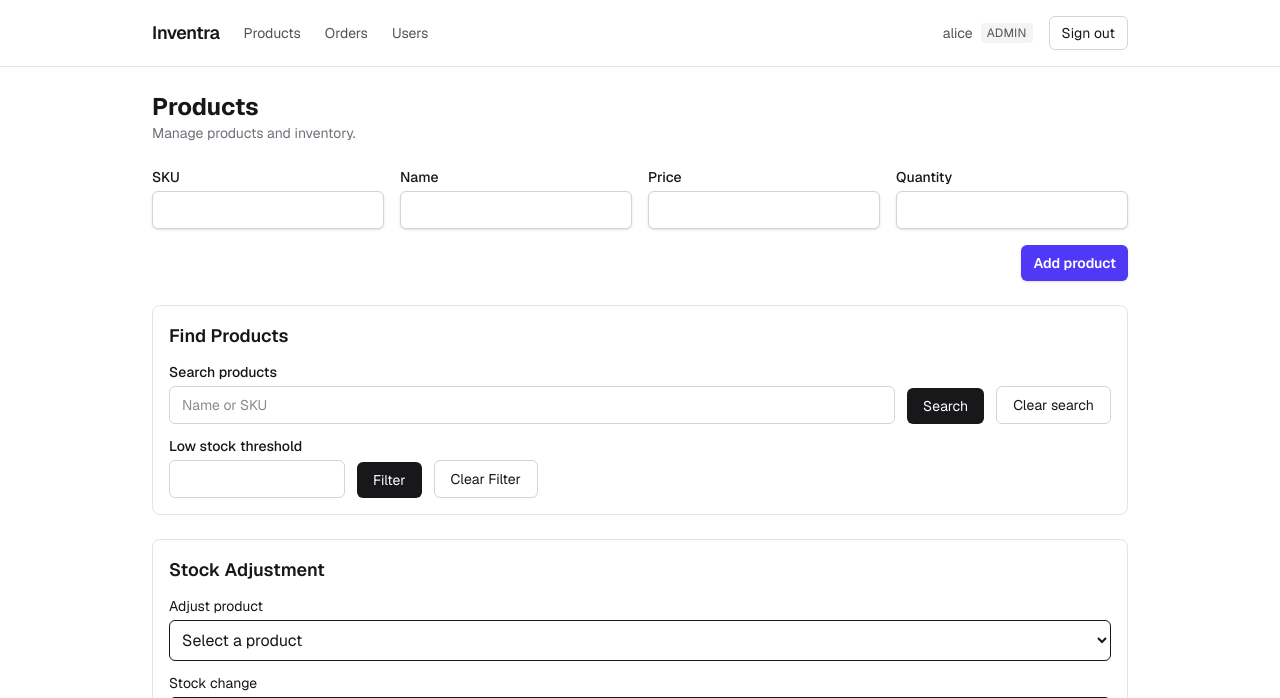
Scenario: ProductsPage search › clearing the search keeps the low-stock filter
The width and height of the screenshot is (1280, 698).
In the number field labelled "Low stock threshold": x=257, y=479 x1=169 y1=460 x2=345 y2=498, type "5"
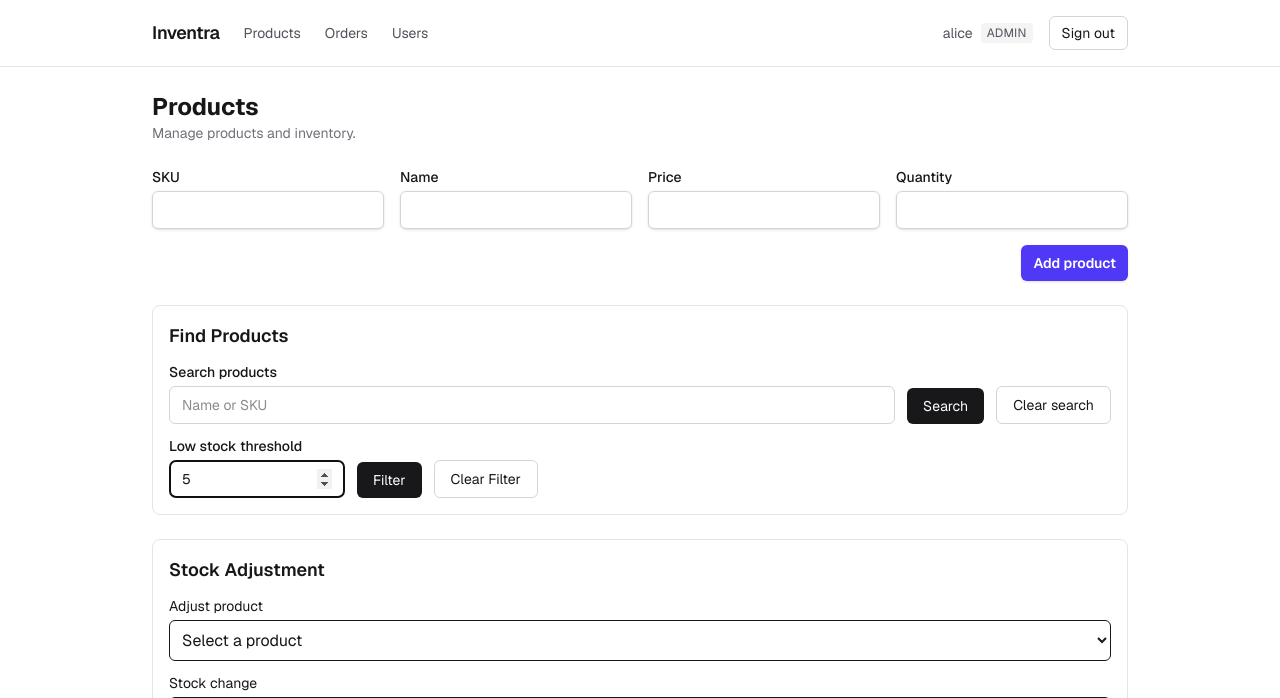
Click the button "Filter": x=389, y=480 x1=357 y1=462 x2=422 y2=498
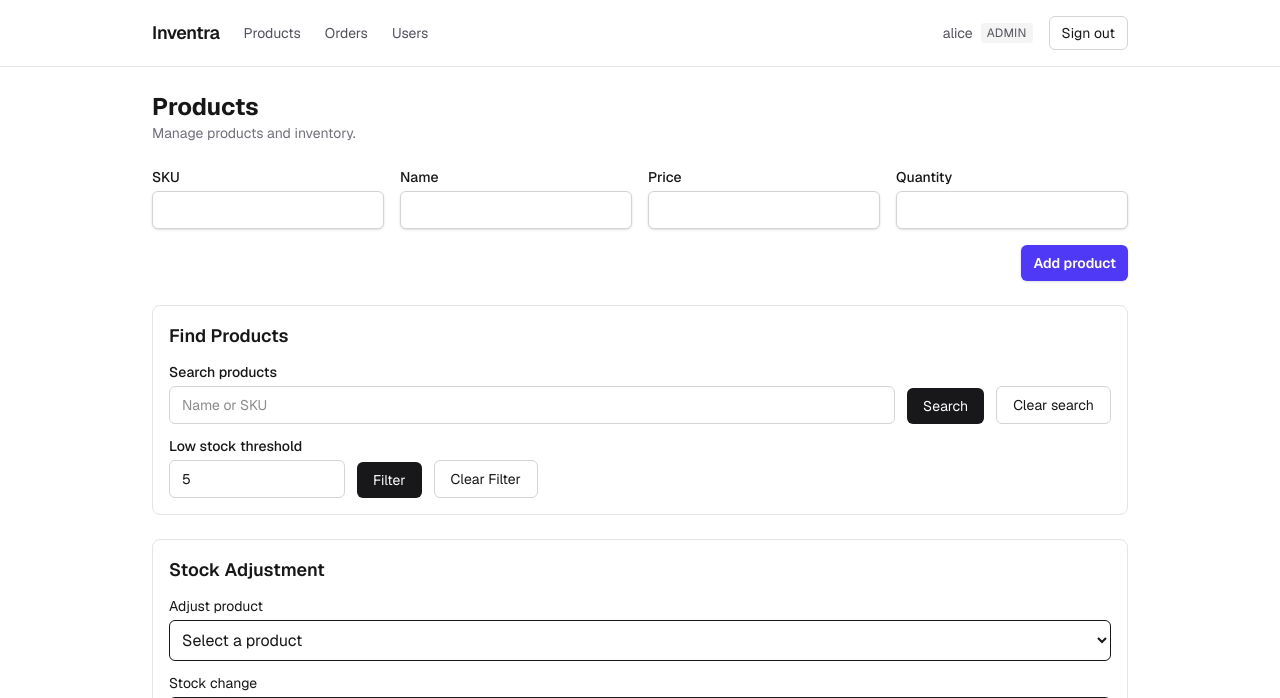
In the search field labelled "Search products": x=532, y=405 x1=169 y1=386 x2=895 y2=424, type "key"
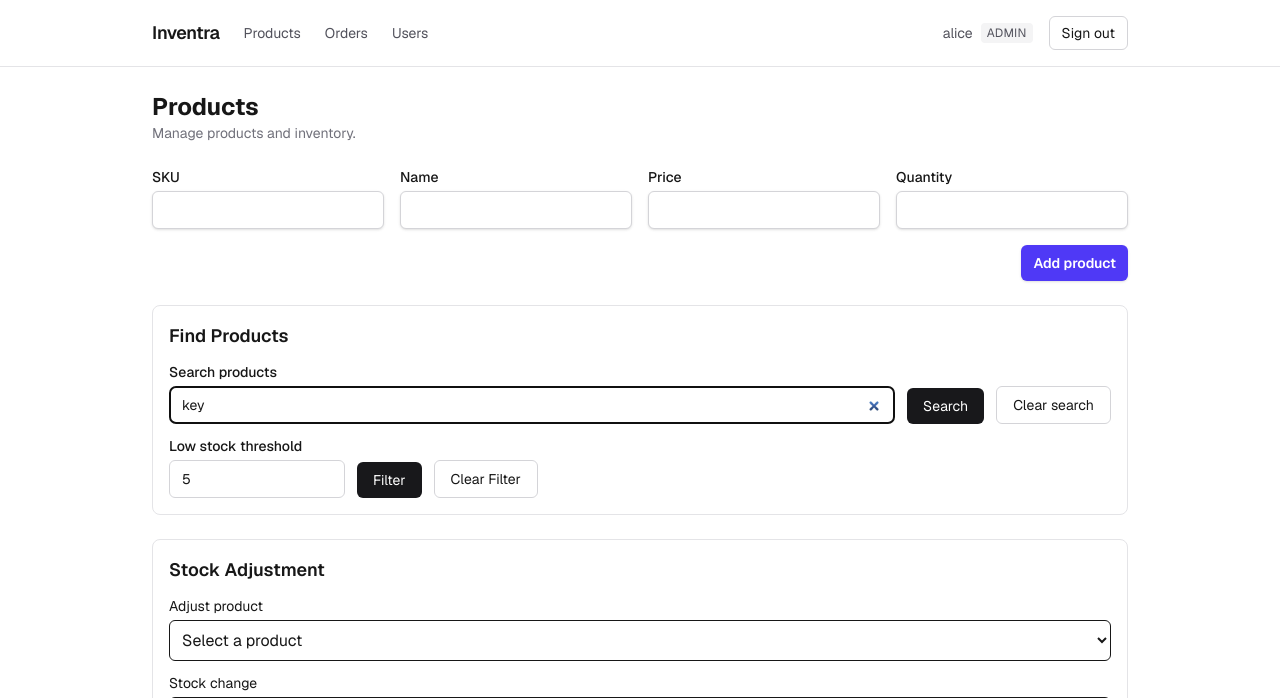
Click the button "Search": x=946, y=406 x1=907 y1=388 x2=984 y2=424
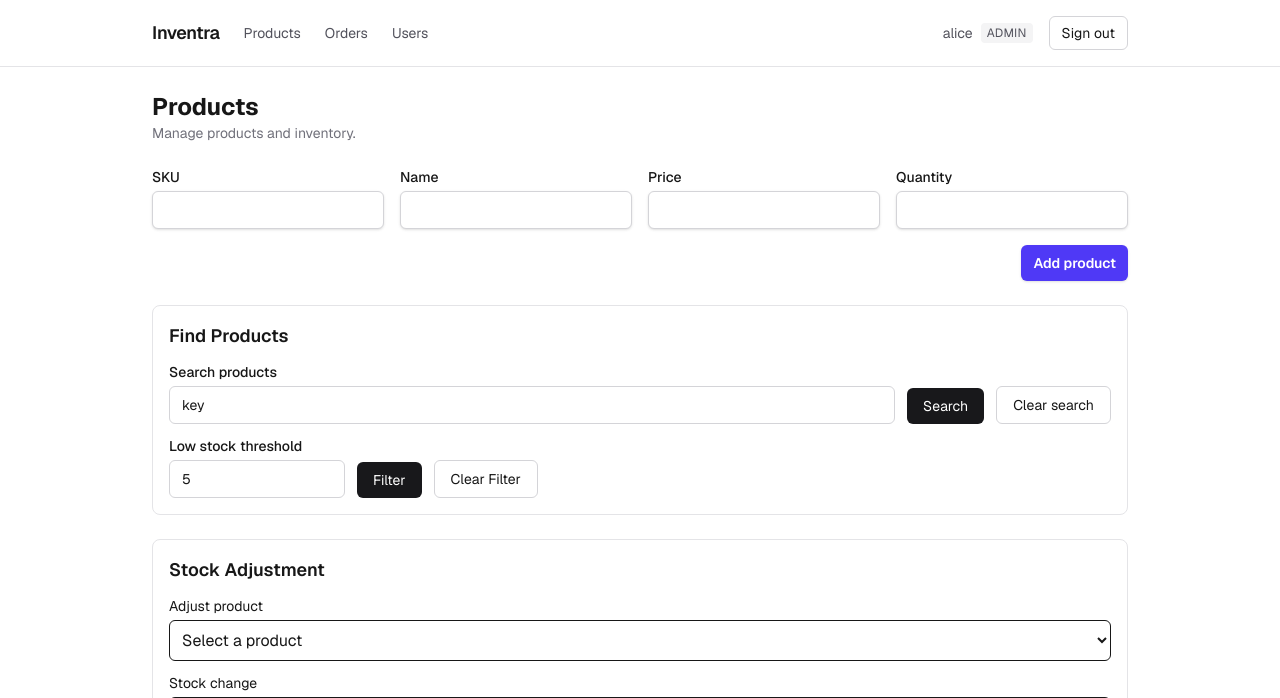
Click the button "Clear search": x=1054, y=405 x1=996 y1=386 x2=1111 y2=424
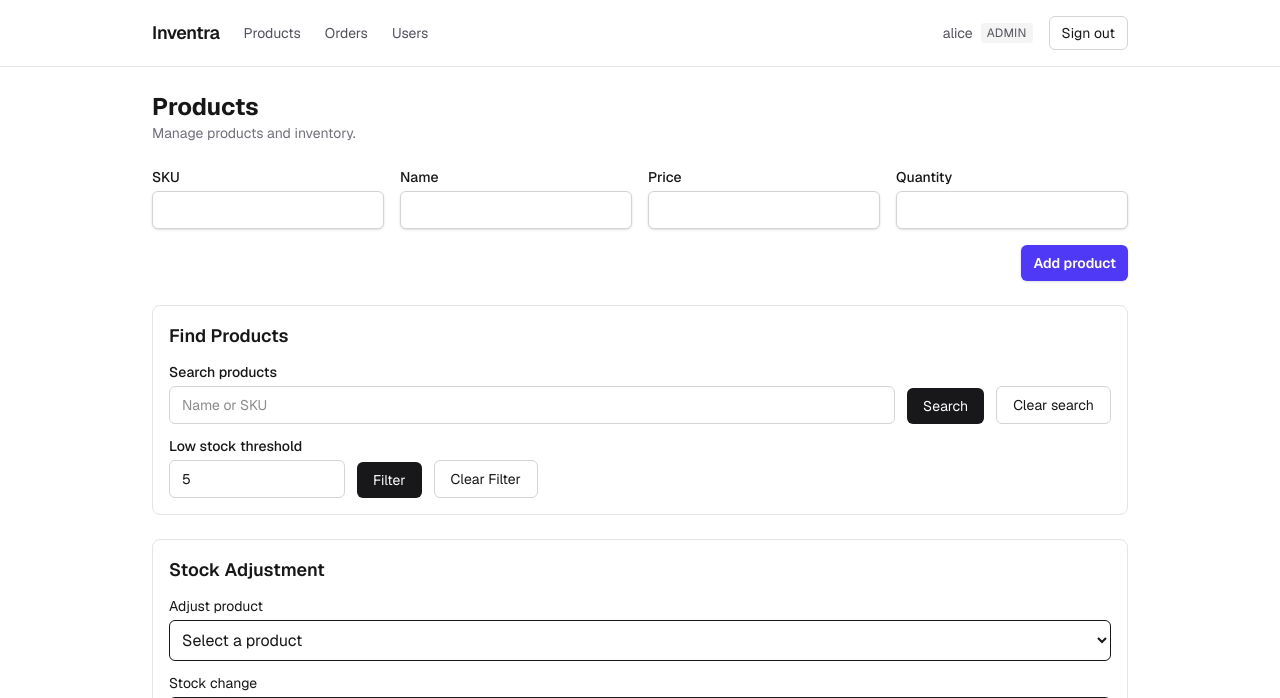
Check: the search field labelled "Search products" is empty, box x1=169 y1=386 x2=895 y2=424
